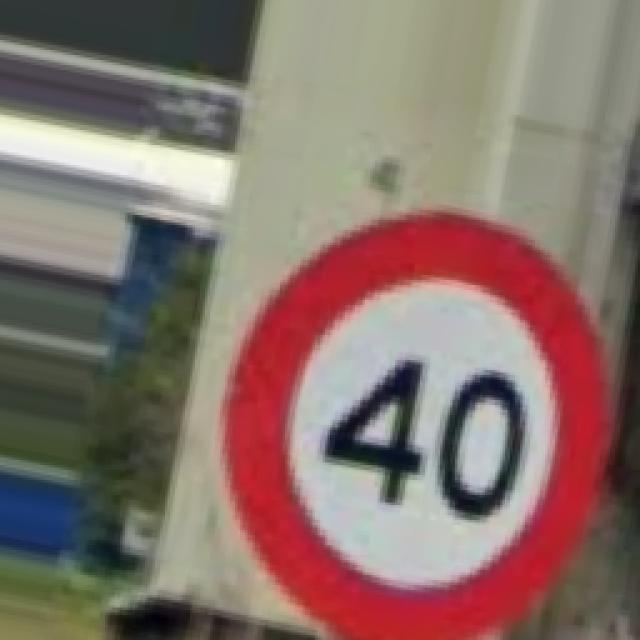Speed Limit -40-: (225, 212, 608, 638)
